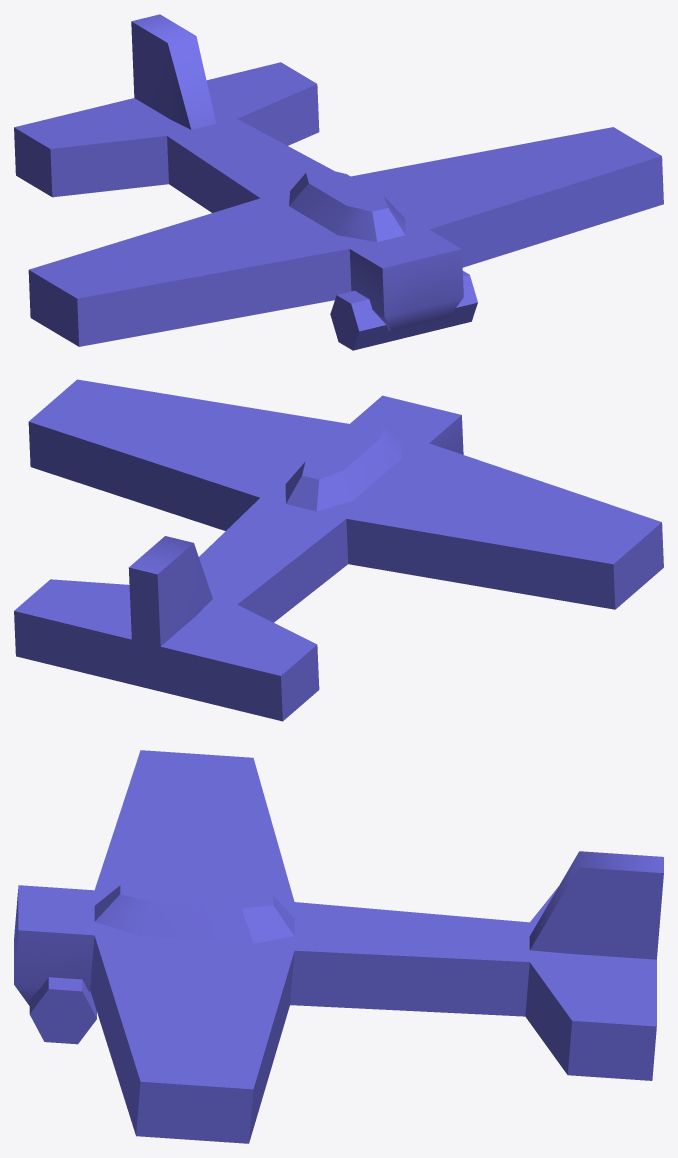
File: Fighter.fbx
The picture shows the model from 3 angles, top to bottom: view 1: azimuth 30°, elevation 25°; view 2: azimuth 150°, elevation 25°; view 3: azimuth 270°, elevation 25°; orthographic projection. The views are drawn at different scales.
Visible parts, largest first — view 1: Fighter; view 2: Fighter; view 3: Fighter.
Part boxes in pixels (left/top/right/bottom): Fighter: left=14, top=14, right=663, bottom=350; Fighter: left=14, top=379, right=663, bottom=721; Fighter: left=14, top=750, right=663, bottom=1143.
Bounding box in the file's own units: 48.08 × 10.23 × 39.83.
